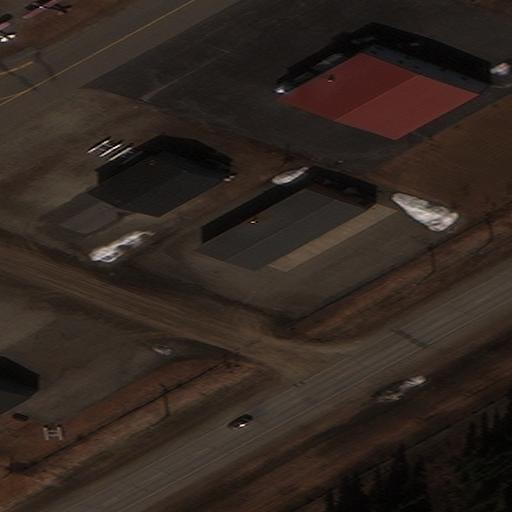Small Civil Transport: (22, 0, 68, 17)
